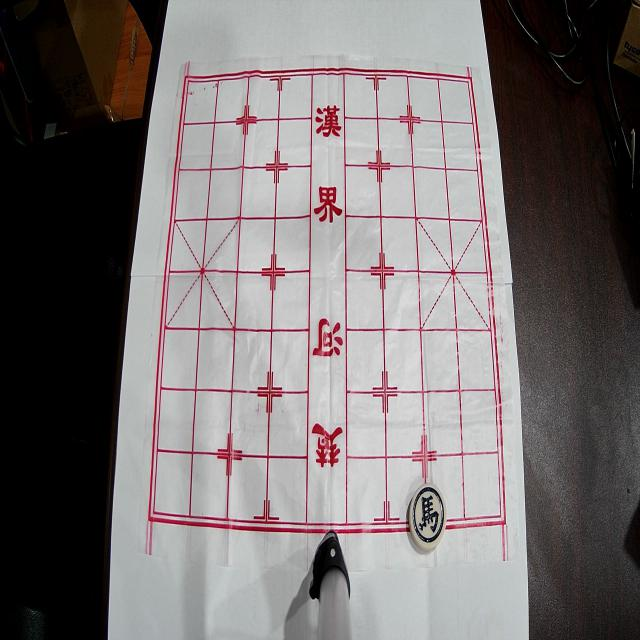black-horse: (409, 484, 447, 552)
